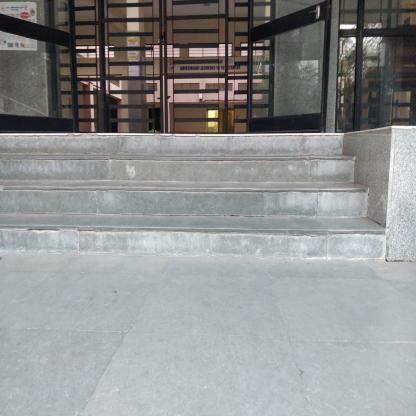stairs: (111, 137, 335, 270)
